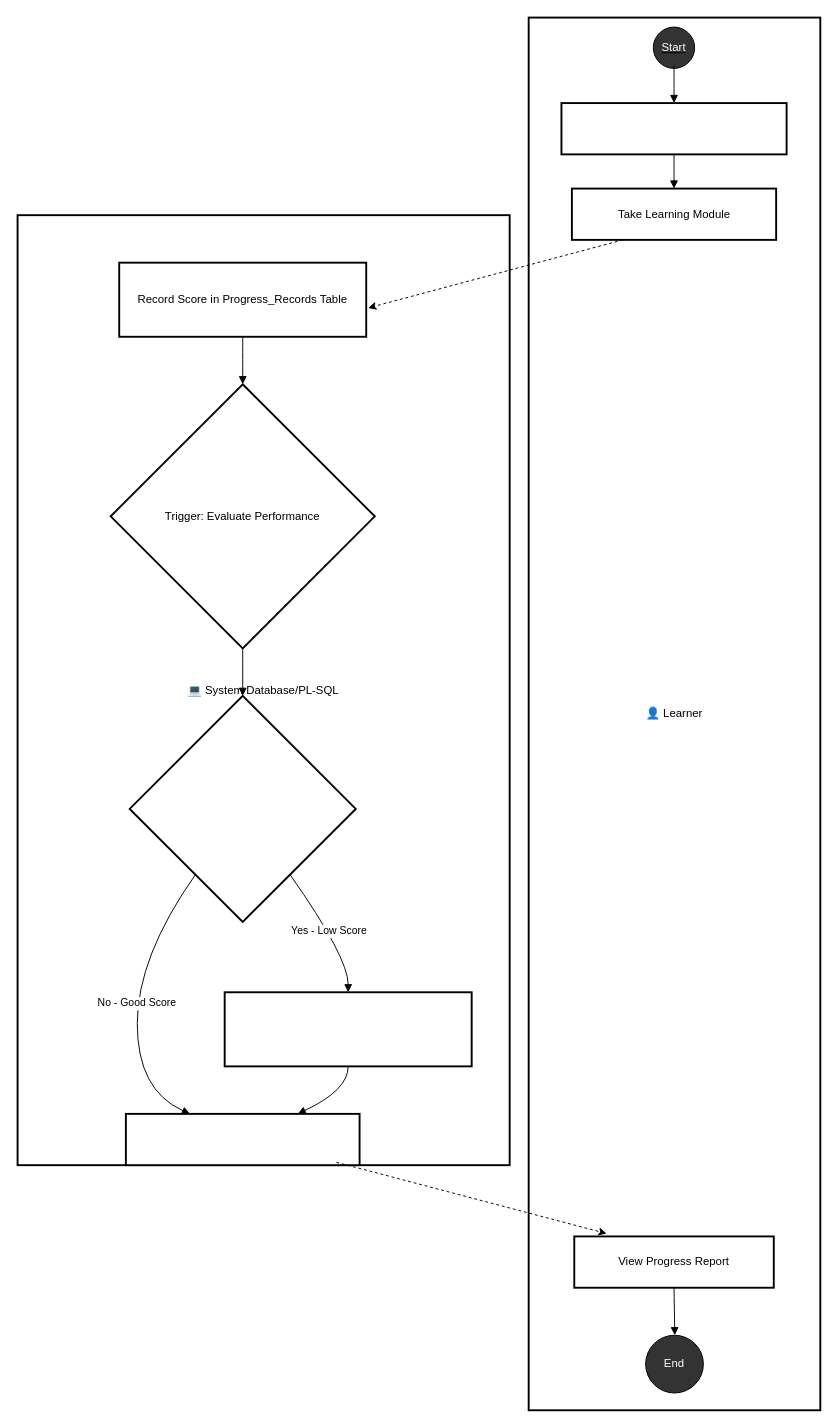
Some shapes in this 837 by 1427 pixel diagram are drawn without their labels. The shapes that lost their labels are listed below. From the top down, each one's centre as x and y in pixels, then its label:
(x=673, y=128): Enroll in Language
(x=242, y=808): Is Score Below Threshold?
(x=347, y=1029): Generate Improvement Suggestion
(x=242, y=1139): Update Progress Summary
